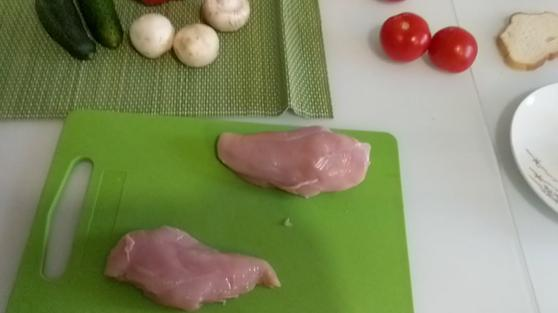champignon: (172, 22, 220, 66), (127, 12, 175, 56), (199, 2, 253, 34)
chicken_fillet: (109, 222, 283, 313), (214, 122, 377, 199)
cucumber: (39, 1, 99, 62), (92, 1, 124, 52)
tomato: (375, 6, 432, 58), (434, 23, 477, 73)
white_bread: (493, 6, 558, 72)
